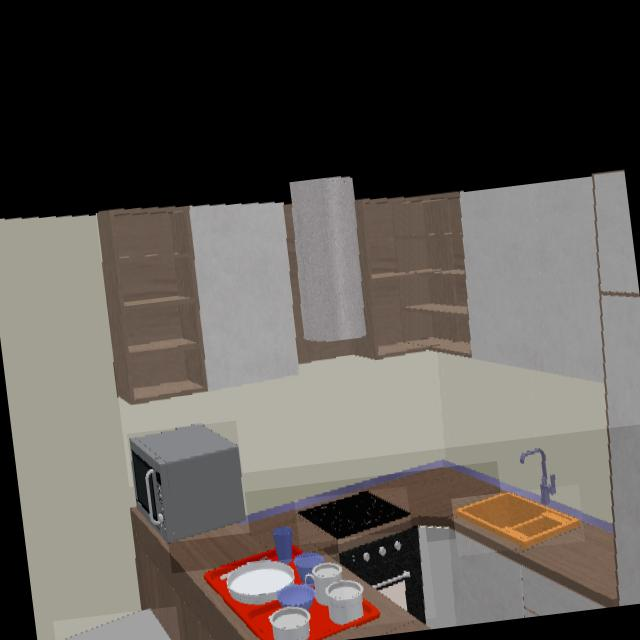cabinet: (98, 171, 640, 425)
chair: (63, 611, 171, 640)
countertop: (169, 468, 500, 568)
microwave: (128, 427, 247, 543)
oven: (340, 530, 426, 619)
sink: (453, 494, 583, 548)
stove: (295, 493, 409, 540)
